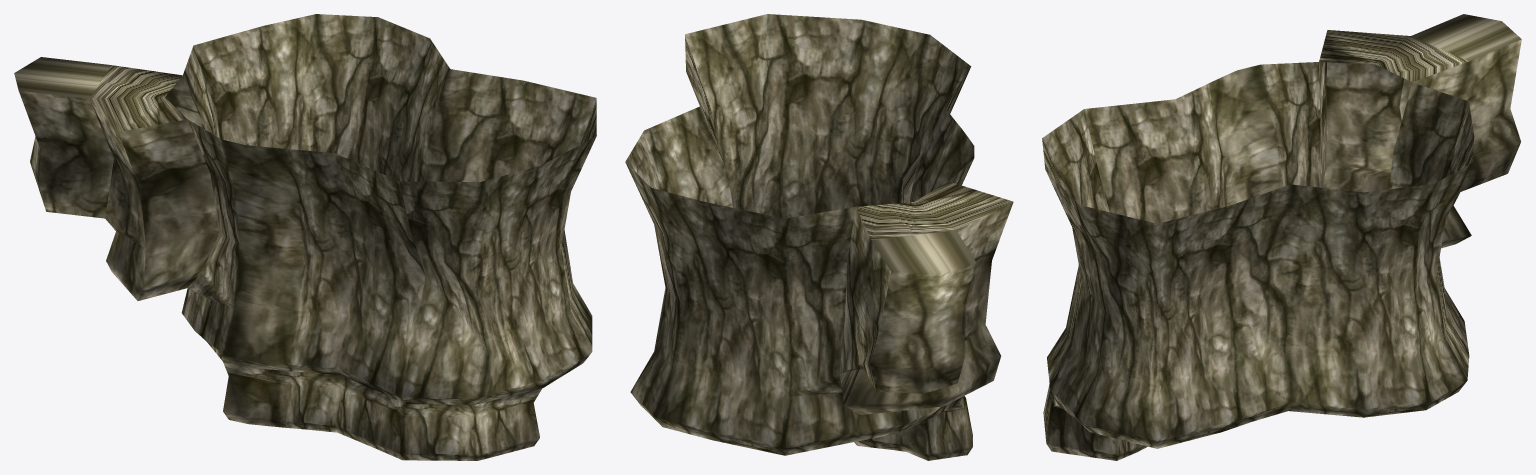
The model's file is CB_NEWPLAYSURFACE_CB_PLAYSURFACE52.fbx.
3 renders of one model, left to right at view 1: azimuth 30°, elevation 25°; view 2: azimuth 150°, elevation 25°; view 3: azimuth 270°, elevation 25°, orthographic. The views are drawn at different scales.
Visible parts, largest first — view 1: CB_NEWPLAYSURFACE_CB_PLAYSURFACE52; view 2: CB_NEWPLAYSURFACE_CB_PLAYSURFACE52; view 3: CB_NEWPLAYSURFACE_CB_PLAYSURFACE52.
Part boxes in pixels (x1,y1,x2,y2): CB_NEWPLAYSURFACE_CB_PLAYSURFACE52: (14, 14, 596, 460); CB_NEWPLAYSURFACE_CB_PLAYSURFACE52: (625, 14, 1013, 460); CB_NEWPLAYSURFACE_CB_PLAYSURFACE52: (1042, 14, 1521, 460).
Size of the model in its own units: 133312 by 84294 by 128892.
Materials: 2 (2 with a texture image).
